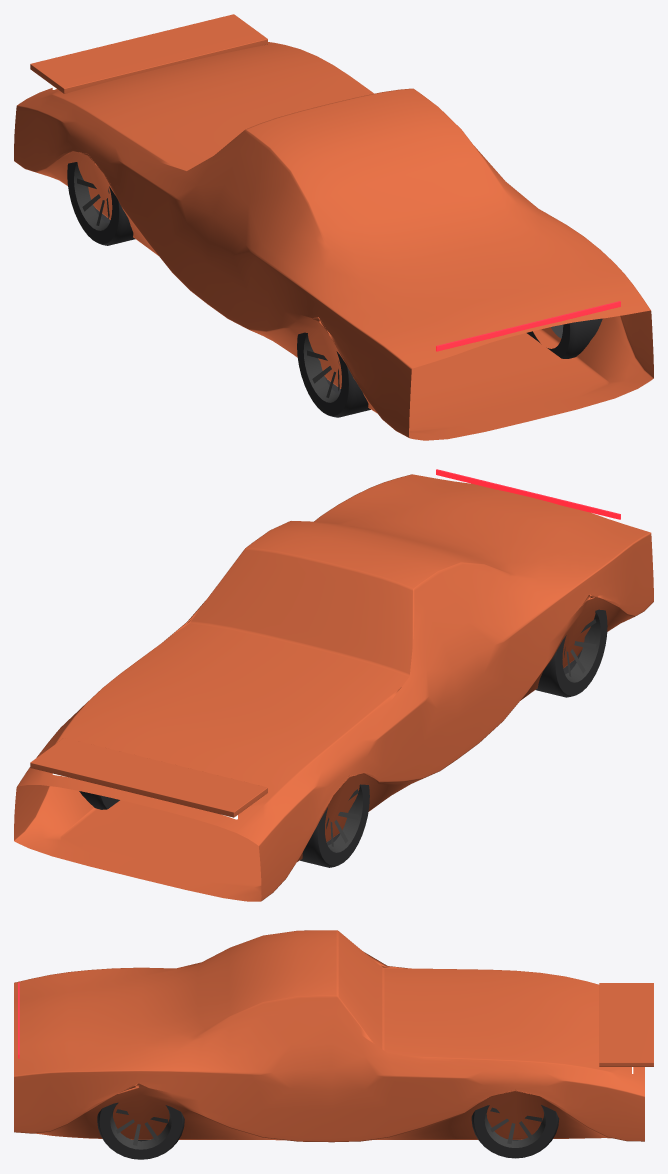
File: Car_Dodge_Charger_Daytona_SRT_EV_future.glb
3 renders of one model, top to bottom at view 1: azimuth 30°, elevation 25°; view 2: azimuth 150°, elevation 25°; view 3: azimuth 270°, elevation 25°, orthographic. The views are drawn at different scales.
Visible parts, largest first — view 1: BODY_ChargerDaytonaSRT_EV_MainHull, AERO_ChargerDaytona_RWing, WHEEL_RR_Tire, WHEEL_FR_Tire, WHEEL_RL_Tire, LIGHT_Taillights_ChargerDaytona, WHEEL_RR_Rim, WHEEL_FR_Rim; view 2: BODY_ChargerDaytonaSRT_EV_MainHull, AERO_ChargerDaytona_RWing, WHEEL_RR_Tire, WHEEL_FR_Tire, WHEEL_RR_Rim, LIGHT_Taillights_ChargerDaytona, WHEEL_FR_Rim; view 3: BODY_ChargerDaytonaSRT_EV_MainHull, AERO_ChargerDaytona_RWing, WHEEL_RL_Tire, WHEEL_FL_Tire, WHEEL_RL_Rim, WHEEL_FL_Rim.
Boxes of the visible parts, x1,y1,x2,y2 form: BODY_ChargerDaytonaSRT_EV_MainHull: (14, 42, 653, 440); AERO_ChargerDaytona_RWing: (30, 14, 267, 93); WHEEL_RR_Tire: (297, 332, 370, 417); WHEEL_FR_Tire: (67, 162, 135, 245); WHEEL_RL_Tire: (527, 318, 602, 358); LIGHT_Taillights_ChargerDaytona: (436, 301, 620, 351); WHEEL_RR_Rim: (303, 333, 339, 402); WHEEL_FR_Rim: (74, 162, 109, 230); BODY_ChargerDaytonaSRT_EV_MainHull: (14, 474, 653, 901); AERO_ChargerDaytona_RWing: (30, 738, 267, 817); WHEEL_RR_Tire: (535, 609, 607, 697); WHEEL_FR_Tire: (300, 784, 369, 867); WHEEL_RR_Rim: (564, 611, 600, 682); LIGHT_Taillights_ChargerDaytona: (436, 469, 620, 519); WHEEL_FR_Rim: (326, 785, 362, 852); BODY_ChargerDaytonaSRT_EV_MainHull: (14, 930, 644, 1142); AERO_ChargerDaytona_RWing: (599, 983, 653, 1066); WHEEL_RL_Tire: (97, 1102, 184, 1159); WHEEL_FL_Tire: (471, 1105, 559, 1158); WHEEL_RL_Rim: (110, 1106, 171, 1149); WHEEL_FL_Rim: (484, 1107, 545, 1147).
Size of the model in its own units: 2.06 by 1.38 by 5.26.
